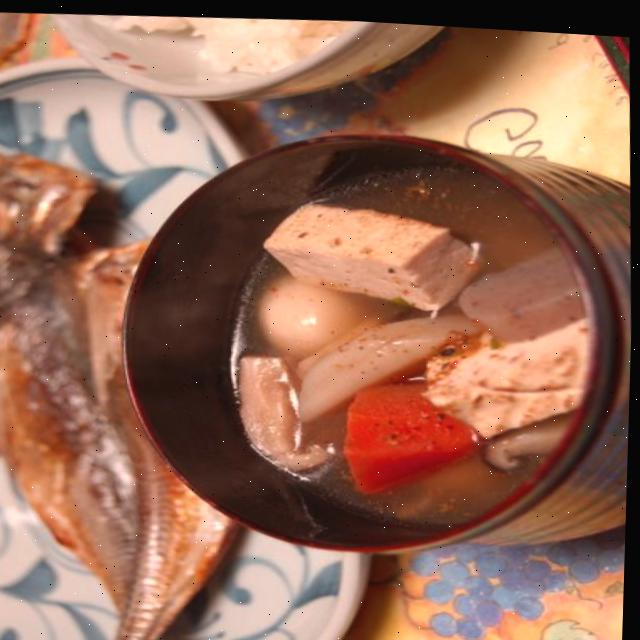蔬菜料理: (93, 81, 626, 566)
